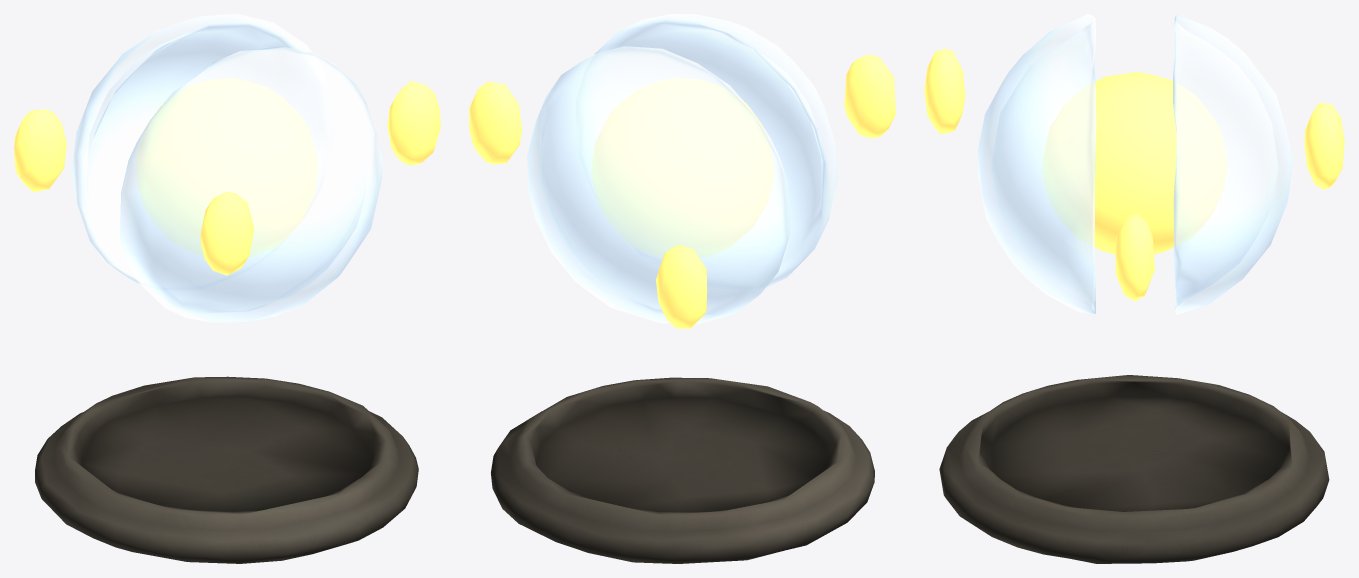
File: sunmote_gleam.glb
The picture shows the model from 3 angles, left to right: view 1: azimuth 30°, elevation 25°; view 2: azimuth 150°, elevation 25°; view 3: azimuth 270°, elevation 25°; orthographic projection.
Parts seen in each view (by area): view 1: shell, base, core, chips; view 2: shell, base, core, chips; view 3: base, shell, core, chips.
Boxes of the visible parts, x1,y1,x2,y2 form: shell: (72, 14, 382, 322); base: (35, 376, 418, 563); core: (136, 78, 317, 256); chips: (14, 81, 440, 275); shell: (527, 14, 838, 324); base: (491, 377, 874, 563); core: (592, 78, 773, 257); chips: (469, 54, 895, 328); base: (939, 375, 1329, 563); shell: (978, 14, 1292, 314); core: (1043, 72, 1226, 254); chips: (924, 48, 1344, 301).
Bounding box in the file's own units: 0.7668 × 0.8822 × 0.7283.
3 materials, 1 textured.
